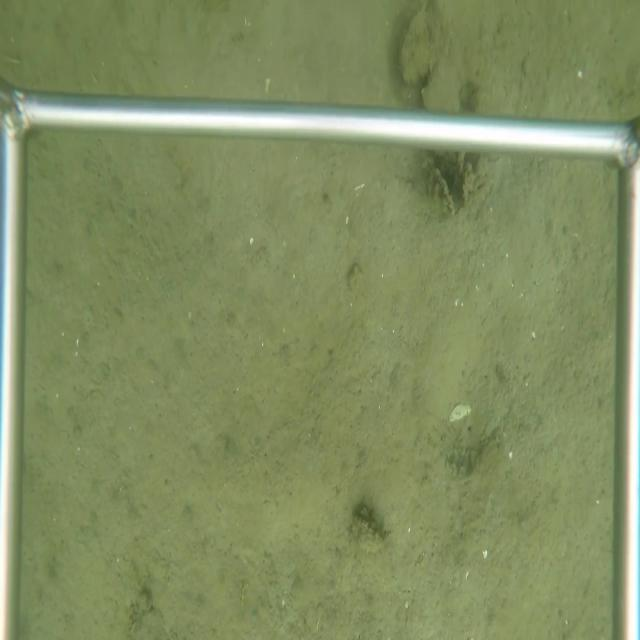Oyster-Closed: (395, 4, 448, 87), (349, 511, 390, 551)
Oyster-Indeterminate: (418, 59, 466, 110)
